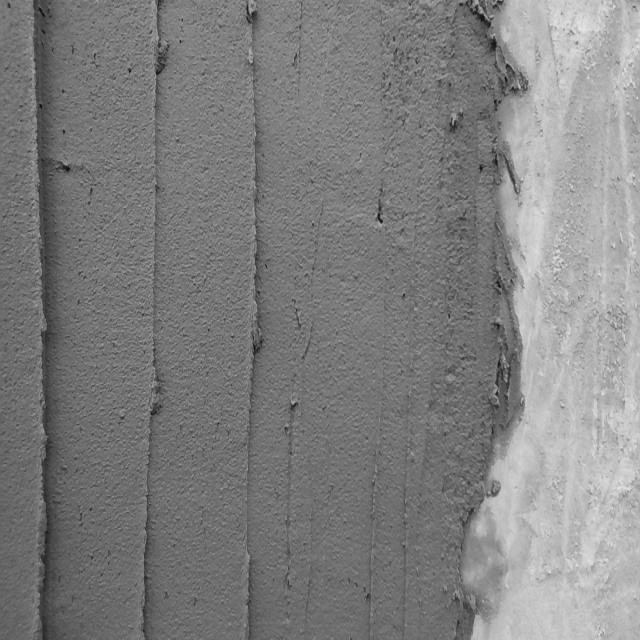trowels marks: (136, 4, 166, 640), (23, 0, 51, 640), (239, 1, 263, 640), (361, 445, 382, 640), (399, 386, 414, 640)
